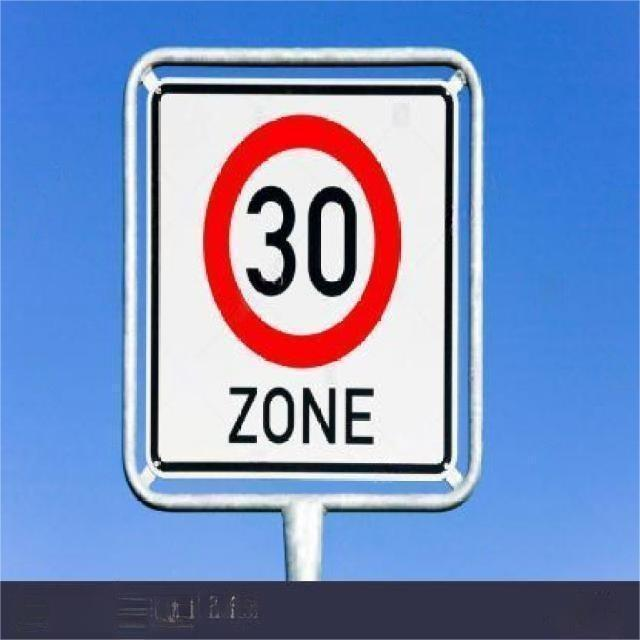speed limit 30: (203, 114, 402, 370)
